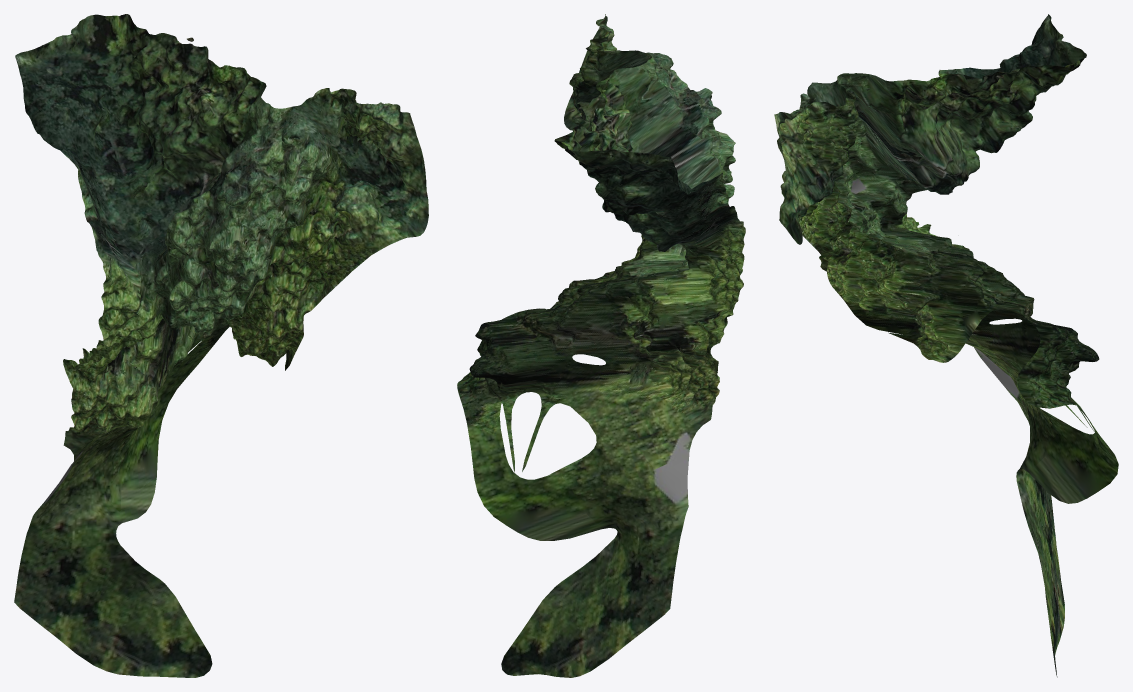
Rendered from Tile_+018_+002.fbx.
The picture shows the model from 3 angles, left to right: view 1: azimuth 30°, elevation 25°; view 2: azimuth 150°, elevation 25°; view 3: azimuth 270°, elevation 25°; orthographic projection. The views are drawn at different scales.
Parts seen in each view (by area): view 1: DefaultName; view 2: DefaultName; view 3: DefaultName.
Boxes of the visible parts, box(x1,y1,x2,y2) form: DefaultName: box(14, 14, 428, 677); DefaultName: box(457, 14, 745, 677); DefaultName: box(774, 14, 1118, 677).
Size of the model in its own units: 9.51 by 22.43 by 12.03.
